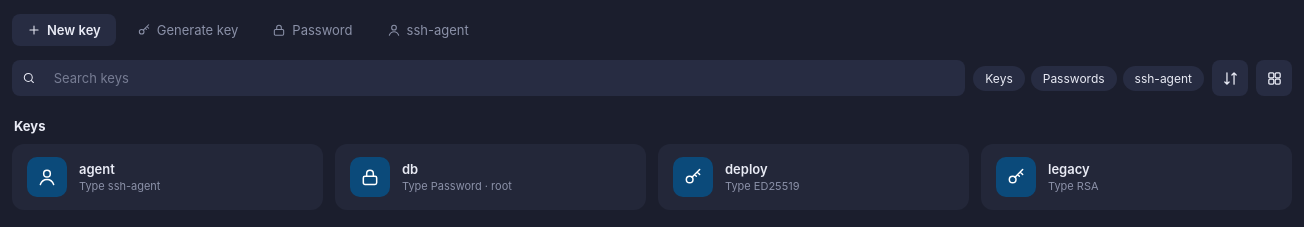
Test: Keychain page: filter, sort and view › searches the name, the user and the type
Type "root" into the field labelled "Search keys".
click(498, 78); type("root")  # box [42,59,955,97]
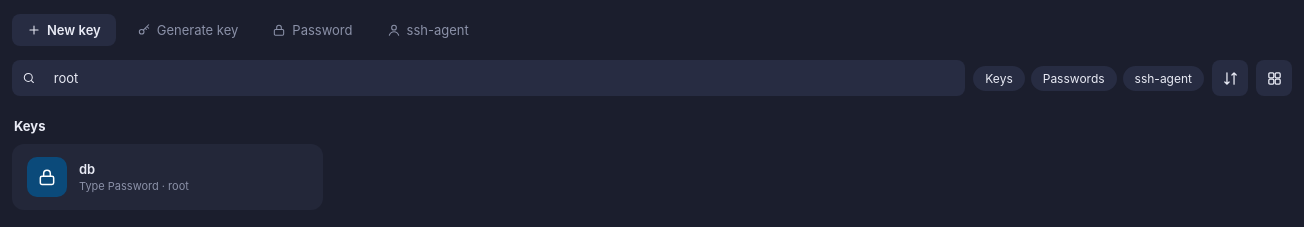
Replace the text in the field named "Search keys" with "rsa" at (498, 78), box [42,59,955,97]
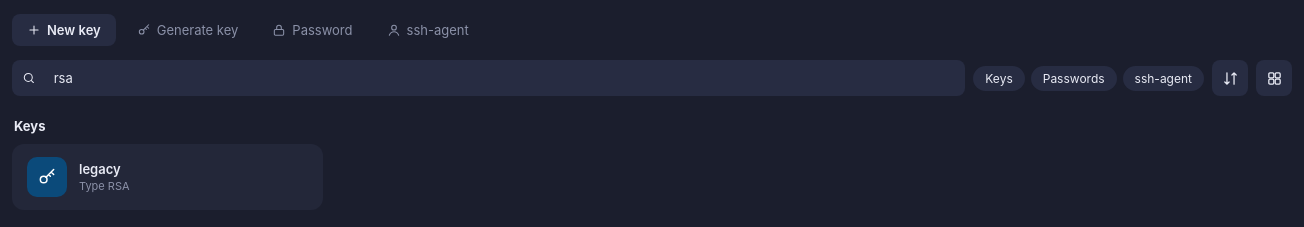
Replace the text in the field named "Search keys" with "nothing" at (498, 78), box [42,59,955,97]
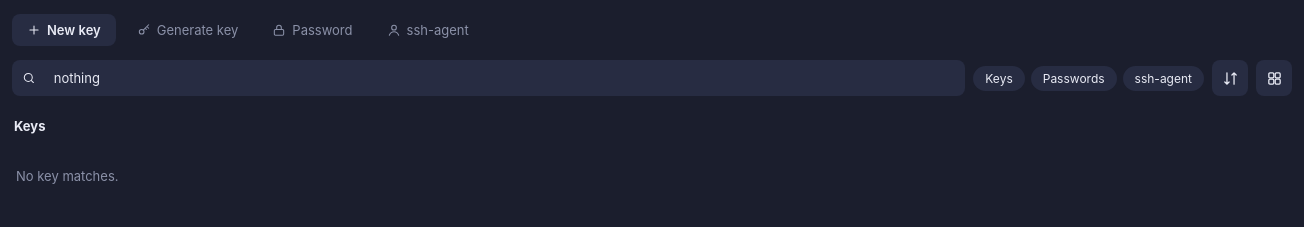
Now the text "No key matches." is shown, box [16,168,118,184]
